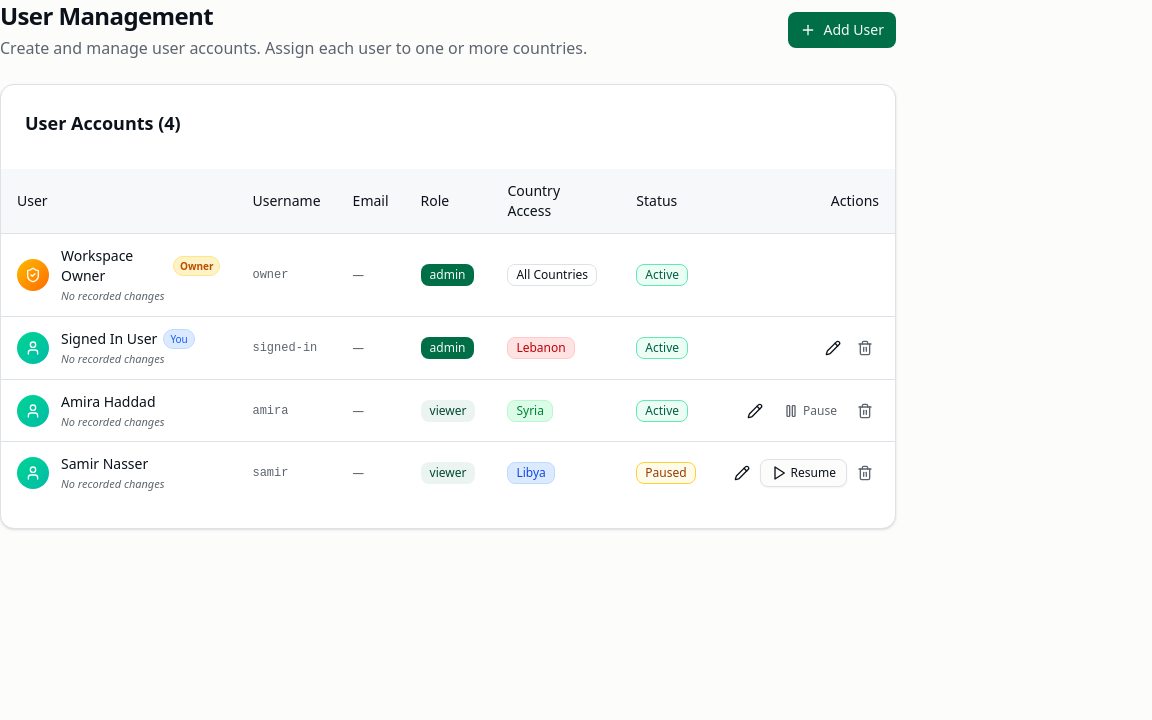
Test case: User account pause and resume › requires confirmation before pausing, communicates access/session impact, and refreshes after success
Click the button with aria-label "Pause Amira Haddad": [810, 410] box [773,396,847,424]
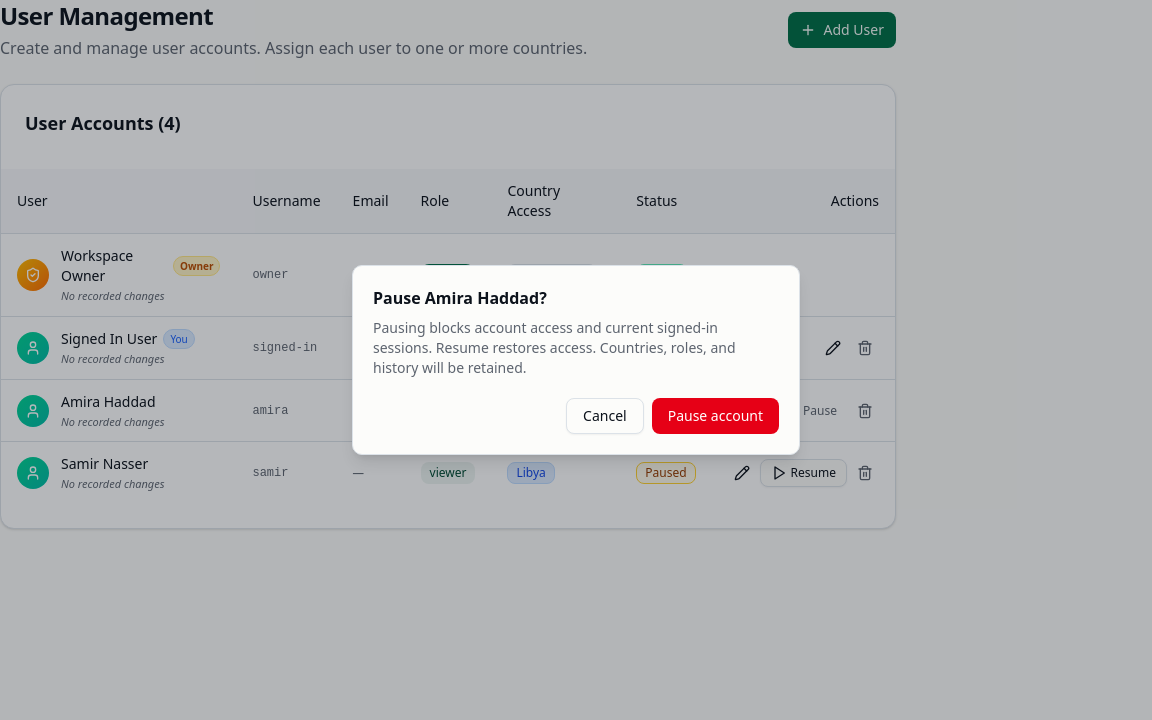
Result: the dialog "Pause Amira Haddad" shows "blocks account access and current signed-in sessions" at [373,318,736,377]
Result: the dialog "Pause Amira Haddad" shows "resume restores access" at [373,318,736,377]
Result: the dialog "Pause Amira Haddad" shows "countries, roles, and history will be retained" at [373,318,736,377]
Click the button "Pause account": [715, 416] box [652,398,779,434]
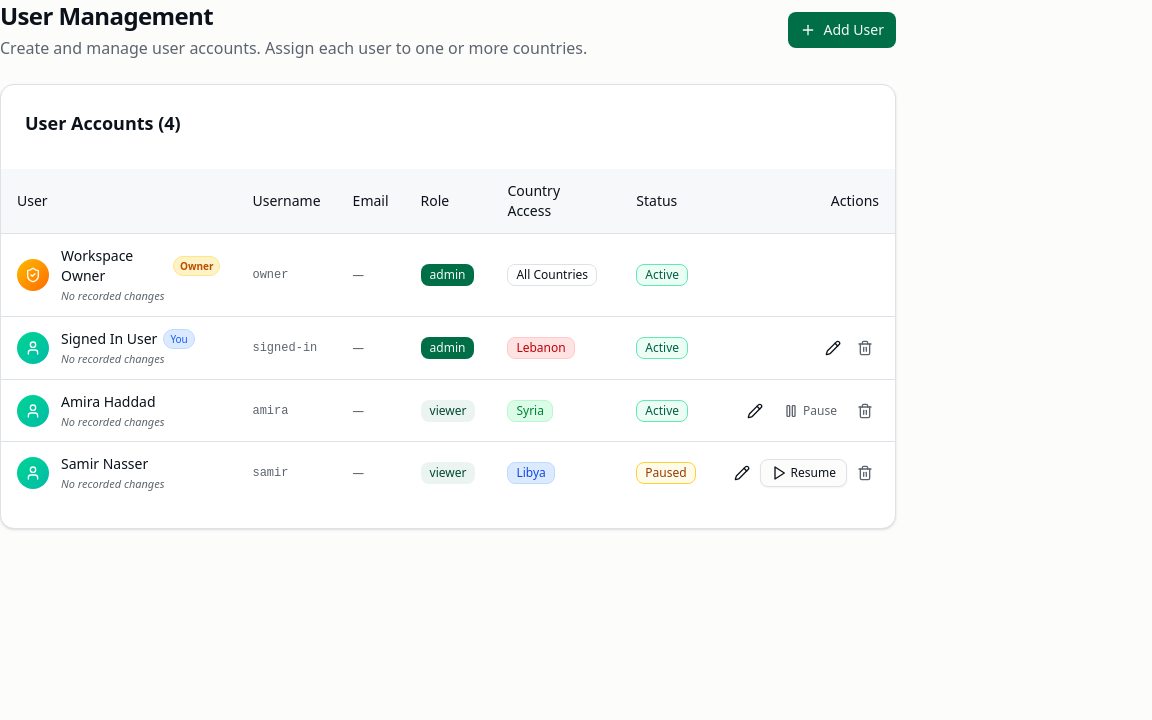
Result: the dialog is gone
